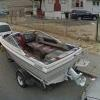Boat: (2, 24, 85, 93)
